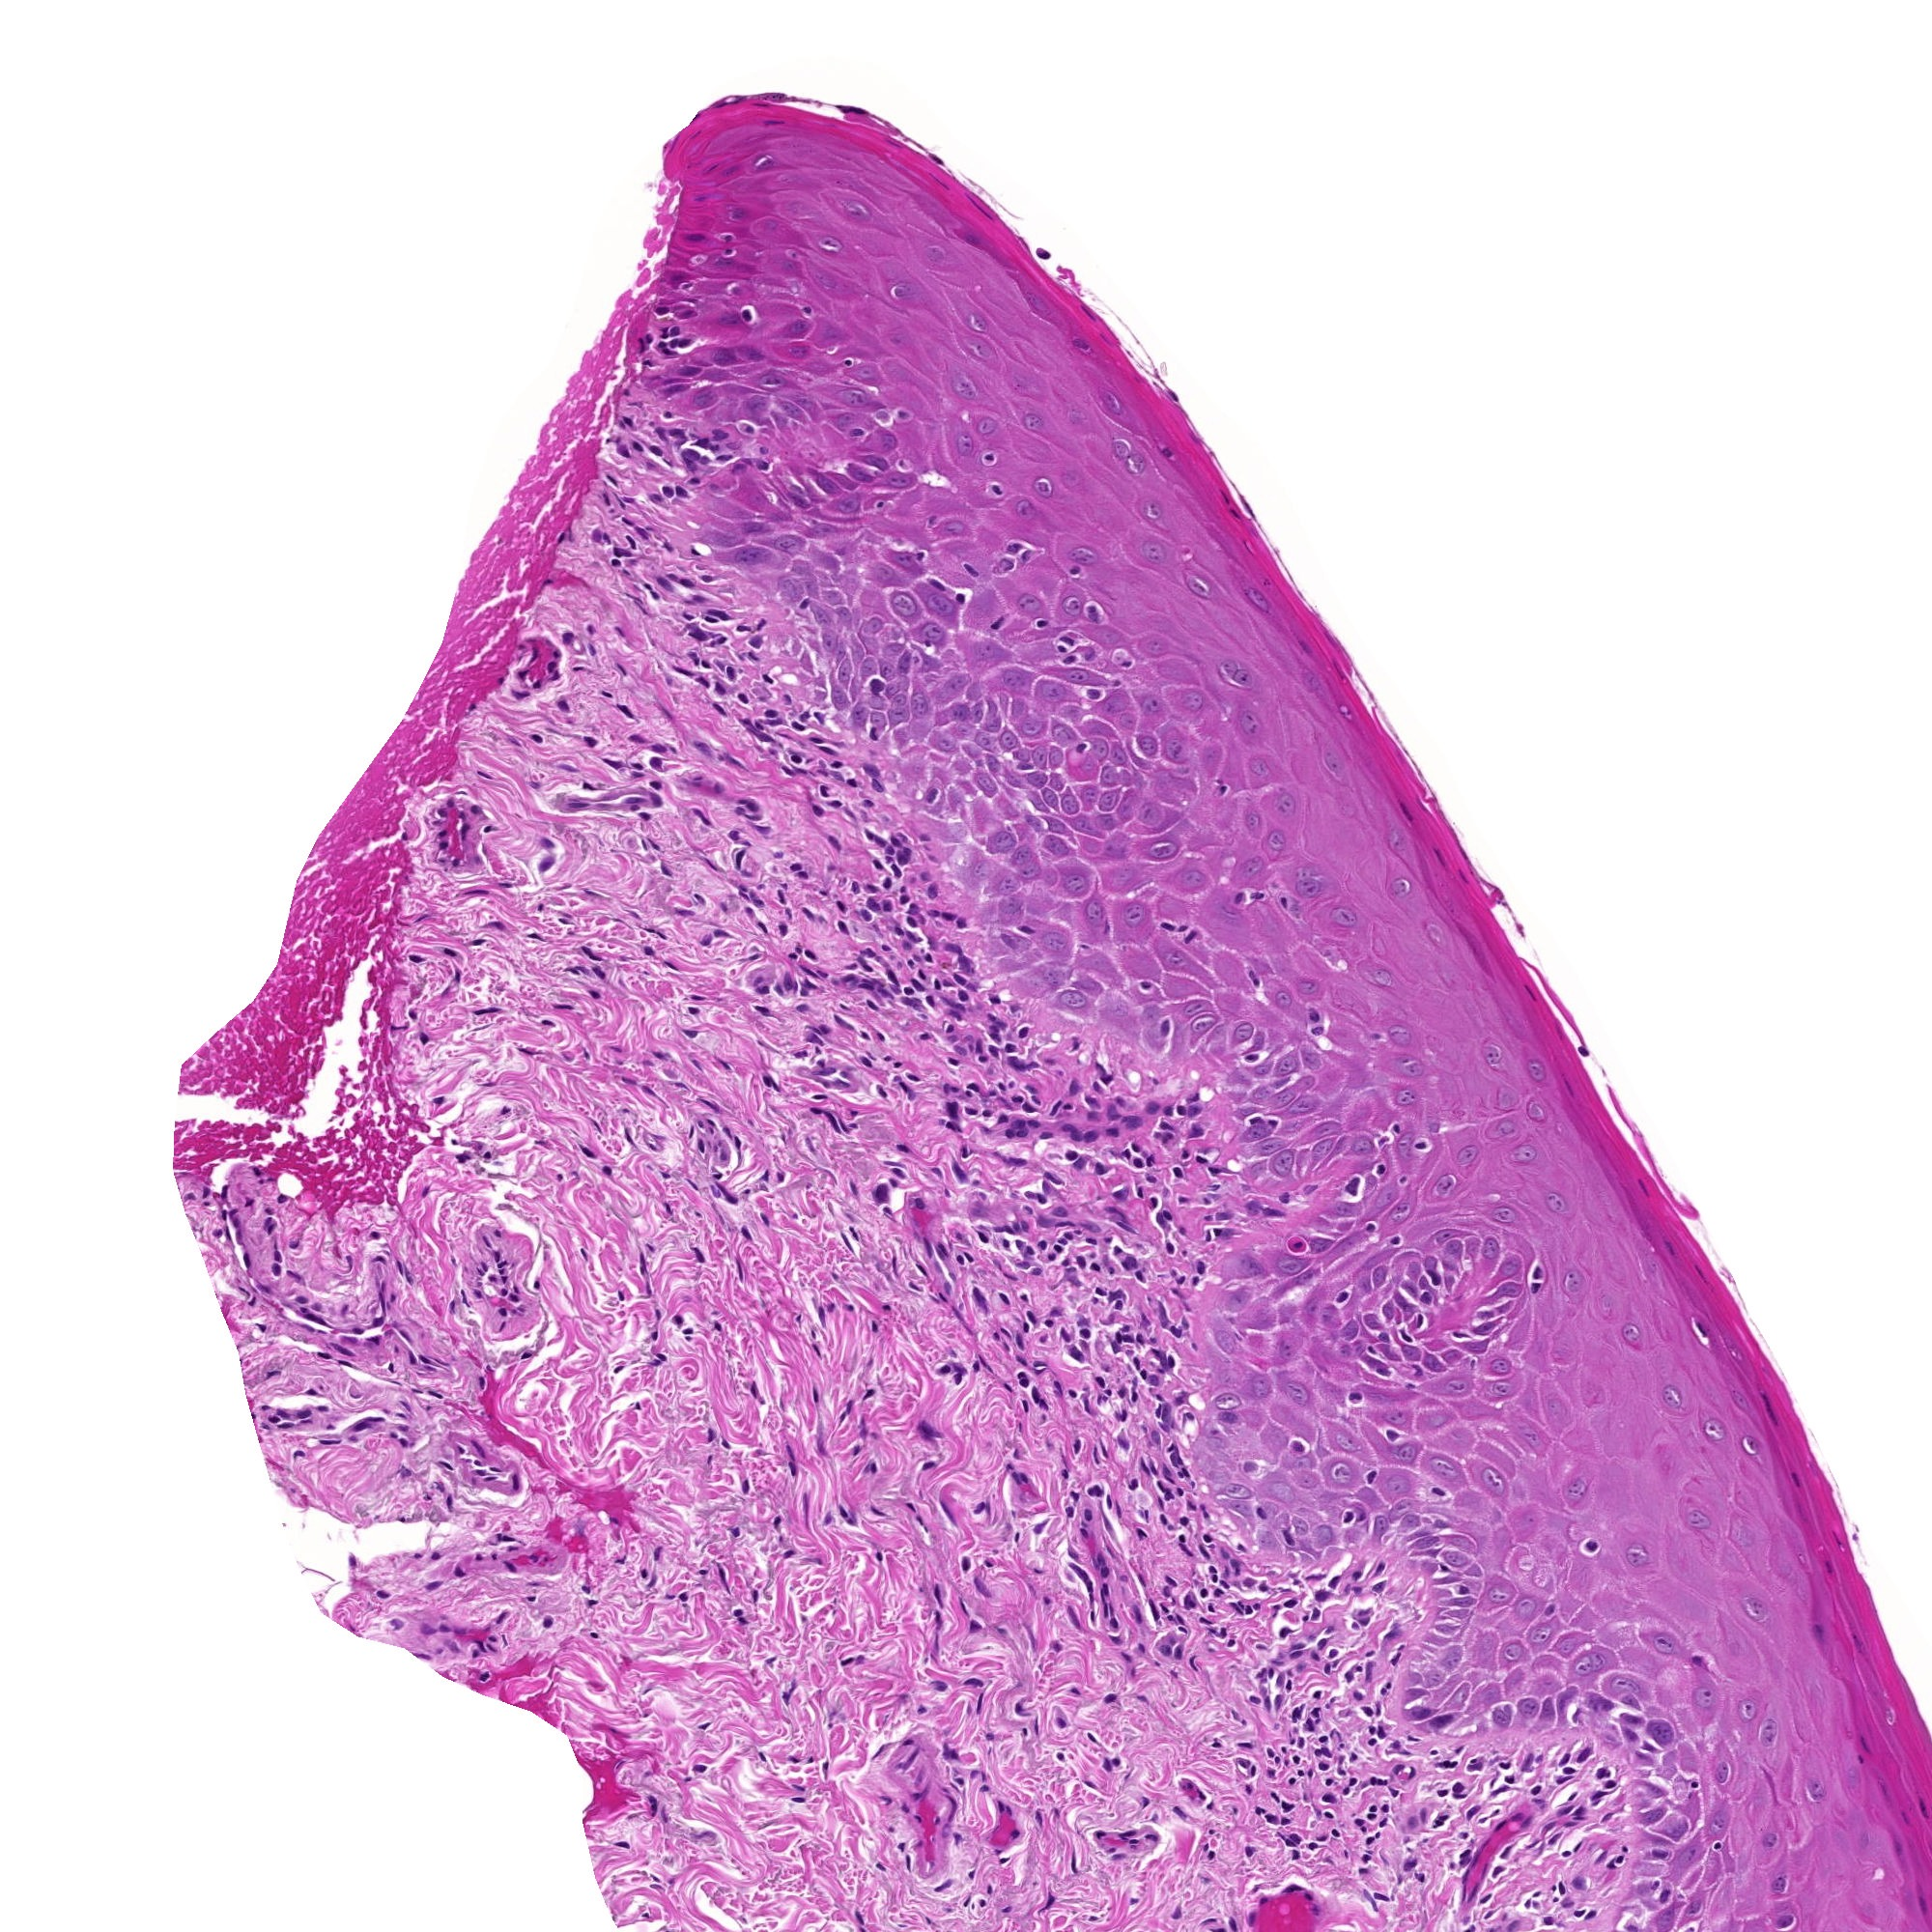epithelial: (407, 901, 439, 932), (738, 338, 770, 370), (646, 292, 678, 324), (688, 426, 720, 458), (860, 446, 892, 478), (671, 297, 702, 329), (683, 442, 715, 474), (784, 334, 816, 366), (872, 425, 904, 456), (826, 403, 858, 435), (773, 249, 805, 281), (648, 320, 679, 352), (805, 464, 837, 495), (720, 338, 752, 370), (667, 428, 699, 460), (667, 364, 699, 396), (883, 322, 915, 354), (617, 786, 649, 817), (823, 681, 855, 713), (740, 540, 771, 571), (906, 688, 938, 720), (814, 545, 846, 577), (941, 582, 973, 614), (865, 487, 897, 518), (899, 550, 931, 582), (892, 591, 924, 623), (564, 1516, 596, 1548), (959, 225, 991, 257), (964, 306, 996, 338), (1005, 839, 1037, 870), (1207, 771, 1238, 803), (1083, 713, 1115, 745), (991, 548, 1023, 580), (1293, 1042, 1325, 1074), (1148, 1012, 1180, 1044), (1392, 1330, 1424, 1362), (1378, 1322, 1410, 1353), (1359, 1346, 1391, 1378), (1394, 1504, 1426, 1536), (1451, 920, 1483, 952), (1686, 1311, 1718, 1343), (1495, 1251, 1527, 1283), (1626, 1203, 1658, 1235), (1654, 1380, 1686, 1412), (1762, 1867, 1794, 1898), (1882, 1831, 1914, 1863), (1647, 1624, 1679, 1656), (1752, 1718, 1783, 1750), (1870, 1773, 1902, 1805), (1534, 1592, 1566, 1624), (878, 653, 911, 683), (1511, 1691, 1545, 1721), (428, 826, 458, 858), (439, 816, 471, 846), (456, 690, 488, 720), (458, 844, 490, 874), (709, 341, 740, 373), (679, 223, 711, 253), (674, 356, 706, 386), (731, 299, 761, 331), (702, 419, 734, 449), (688, 382, 718, 414), (752, 149, 782, 180), (709, 246, 740, 278), (759, 363, 789, 395), (847, 460, 878, 492), (717, 154, 747, 186), (701, 359, 731, 391), (699, 430, 731, 460), (777, 393, 807, 425), (840, 456, 870, 488), (844, 384, 876, 414), (770, 398, 801, 428), (860, 671, 890, 702), (890, 646, 920, 678), (842, 699, 874, 729), (729, 541, 761, 571), (890, 543, 922, 573), (916, 778, 947, 810), (916, 623, 947, 655), (901, 541, 932, 571), (913, 646, 943, 678), (941, 697, 973, 727), (869, 561, 901, 591), (883, 699, 915, 729), (773, 529, 805, 559), (805, 602, 837, 632), (936, 513, 968, 543), (911, 616, 943, 646), (869, 655, 901, 685), (931, 594, 962, 625), (922, 582, 952, 614), (807, 1054, 839, 1085), (973, 441, 1005, 471), (1093, 387, 1125, 418), (1122, 446, 1154, 476), (1077, 598, 1108, 630), (1136, 690, 1168, 720), (1226, 660, 1256, 692), (985, 823, 1017, 853), (1026, 607, 1056, 639), (993, 925, 1024, 955), (1000, 663, 1030, 695), (1148, 835, 1178, 867), (1062, 860, 1092, 892), (1099, 835, 1131, 865), (1053, 625, 1083, 656), (1269, 787, 1300, 817), (1132, 796, 1162, 828), (1010, 586, 1042, 616), (1010, 915, 1042, 945), (1118, 897, 1148, 929), (1104, 740, 1134, 771), (1237, 803, 1267, 835), (978, 701, 1008, 732), (1008, 748, 1039, 780), (1261, 823, 1292, 855), (1069, 543, 1100, 573), (1175, 860, 1205, 892), (1194, 741, 1226, 771), (1237, 579, 1267, 610), (1235, 851, 1267, 881), (1233, 706, 1263, 738), (978, 637, 1010, 667), (1053, 789, 1085, 819), (1074, 778, 1104, 810), (1031, 784, 1063, 814), (1306, 1230, 1336, 1261), (1336, 1315, 1366, 1346), (1269, 1332, 1299, 1364), (1240, 1108, 1272, 1138), (1369, 1322, 1399, 1353), (962, 1194, 993, 1226), (1392, 1083, 1424, 1113), (1364, 1258, 1394, 1290), (1290, 1256, 1320, 1288), (1293, 971, 1325, 1001), (1371, 1295, 1403, 1325), (1371, 1334, 1403, 1364), (1247, 1306, 1277, 1338), (1267, 1145, 1299, 1175), (1415, 1253, 1447, 1283), (1329, 1194, 1361, 1224), (1408, 1697, 1438, 1729), (1348, 1601, 1378, 1633), (1364, 1509, 1394, 1541), (1281, 1635, 1311, 1667), (1346, 1499, 1376, 1530), (1458, 929, 1488, 961), (1467, 1313, 1499, 1343), (1755, 1396, 1787, 1426), (1476, 1040, 1506, 1072), (1453, 1138, 1483, 1169), (1750, 1385, 1782, 1415), (1514, 977, 1546, 1007), (1486, 1198, 1516, 1230), (1520, 1054, 1550, 1086), (1486, 1376, 1518, 1407), (1552, 1070, 1582, 1102), (1631, 1212, 1661, 1244), (1442, 1371, 1474, 1401), (1557, 1263, 1589, 1293), (1437, 1339, 1468, 1369), (1488, 1284, 1518, 1316), (1638, 1799, 1668, 1831), (1585, 1686, 1615, 1718), (1753, 1824, 1783, 1856), (1847, 1729, 1879, 1759), (1707, 1757, 1737, 1789), (1799, 1775, 1831, 1805), (1530, 1695, 1562, 1725), (1447, 1576, 1477, 1608), (1677, 1893, 1709, 1923), (1813, 1550, 1844, 1582), (1644, 1838, 1674, 1870), (1842, 1626, 1874, 1656), (1739, 1589, 1771, 1619), (1582, 1645, 1614, 1675), (1640, 1775, 1672, 1805), (1769, 1900, 1799, 1932), (1652, 1898, 1684, 1928), (449, 814, 479, 844), (464, 1456, 494, 1486), (784, 311, 814, 341), (658, 373, 688, 403), (709, 304, 740, 334), (740, 391, 770, 421), (653, 311, 683, 341), (660, 320, 690, 350), (757, 108, 787, 138), (816, 318, 846, 349), (840, 198, 870, 228), (888, 276, 918, 306), (727, 449, 757, 479), (720, 303, 750, 333), (711, 228, 741, 258), (920, 241, 950, 271), (782, 485, 812, 515), (738, 513, 768, 543), (920, 571, 950, 602), (833, 490, 863, 520), (939, 669, 970, 699), (520, 637, 550, 667), (709, 524, 740, 554), (763, 501, 793, 531), (681, 766, 711, 796), (828, 598, 858, 628), (807, 515, 837, 545), (816, 628, 846, 658), (929, 729, 959, 759), (867, 973, 897, 1003), (904, 1780, 934, 1810), (1065, 329, 1095, 359), (1152, 437, 1182, 467), (1019, 405, 1049, 435), (1017, 283, 1047, 313), (1392, 794, 1422, 824), (1290, 632, 1320, 662), (1131, 729, 1161, 759), (1161, 736, 1191, 766), (1010, 495, 1040, 525), (1040, 830, 1070, 860), (1295, 870, 1325, 901), (998, 892, 1028, 922), (1092, 805, 1122, 835), (1023, 764, 1053, 794), (1039, 678, 1069, 708), (1074, 639, 1104, 669), (1097, 688, 1127, 718), (1139, 494, 1169, 524), (961, 697, 991, 727), (1060, 591, 1090, 621), (1384, 874, 1414, 904), (1214, 1401, 1244, 1431), (1417, 1348, 1447, 1378), (1237, 1251, 1267, 1281), (1389, 1288, 1419, 1318), (1251, 1108, 1281, 1138), (1295, 1292, 1325, 1322), (1180, 993, 1210, 1023), (1357, 1307, 1387, 1338), (1191, 1010, 1221, 1040), (1272, 1053, 1302, 1083), (1267, 984, 1297, 1014), (1226, 1017, 1256, 1047), (1412, 1525, 1442, 1555), (1311, 1520, 1341, 1550), (1484, 879, 1514, 909), (1654, 1231, 1684, 1261), (1476, 1231, 1506, 1261), (1438, 1233, 1468, 1263), (1486, 1350, 1516, 1380), (1614, 1316, 1644, 1346), (1803, 1615, 1833, 1645), (1486, 1702, 1516, 1732), (1663, 1815, 1693, 1845), (1645, 1718, 1675, 1748), (1780, 1463, 1810, 1493), (1675, 1836, 1706, 1867), (1548, 1684, 1578, 1714), (1704, 1805, 1734, 1835), (1560, 1474, 1591, 1504), (1683, 1506, 1713, 1536), (1621, 1543, 1651, 1573), (789, 386, 817, 418), (897, 653, 929, 681), (1037, 810, 1069, 839), (1461, 1330, 1490, 1362), (662, 264, 692, 292), (630, 327, 660, 356), (725, 198, 754, 228), (674, 441, 702, 471), (978, 748, 1007, 778), (1223, 1283, 1253, 1311), (1493, 1274, 1522, 1304)
fibroblast and endothelial: (375, 1350, 407, 1384), (637, 784, 671, 816), (904, 860, 936, 893), (830, 962, 863, 994), (881, 970, 915, 1001), (1016, 1106, 1047, 1139), (1207, 1200, 1240, 1231), (1028, 1175, 1062, 1207), (1343, 1806, 1376, 1838), (1380, 1741, 1412, 1775), (433, 936, 465, 968), (460, 876, 492, 908), (426, 794, 458, 826), (295, 1299, 327, 1330), (359, 1322, 391, 1353), (308, 1339, 340, 1371), (405, 1343, 437, 1375), (203, 1215, 235, 1247), (442, 961, 474, 993), (423, 1085, 455, 1116), (303, 1304, 334, 1336), (246, 1311, 278, 1343), (359, 1230, 391, 1261), (350, 1318, 382, 1350), (219, 1221, 251, 1253), (389, 1318, 421, 1350), (416, 1346, 448, 1378), (389, 1456, 421, 1488), (380, 1608, 412, 1640), (828, 92, 860, 124), (653, 398, 685, 430), (600, 426, 632, 458), (706, 600, 738, 632), (573, 938, 605, 970), (780, 741, 812, 773), (573, 725, 605, 757), (932, 901, 964, 932), (867, 823, 899, 855), (870, 867, 902, 899), (534, 651, 566, 683), (702, 692, 734, 724), (639, 768, 671, 800), (862, 870, 893, 902), (736, 709, 768, 741), (552, 621, 584, 653), (623, 520, 655, 552), (678, 642, 709, 674), (782, 938, 814, 970), (738, 633, 770, 665), (706, 623, 738, 655), (916, 876, 948, 908), (888, 883, 920, 915), (881, 911, 913, 943), (842, 872, 874, 904), (876, 837, 908, 869), (727, 681, 759, 713), (740, 625, 771, 656), (653, 531, 685, 563), (690, 925, 722, 957), (531, 826, 563, 858), (540, 658, 571, 690), (575, 619, 607, 651), (920, 897, 952, 929), (890, 860, 922, 892), (690, 612, 722, 644), (711, 676, 743, 708), (706, 915, 738, 947), (603, 616, 635, 648), (759, 704, 791, 736), (547, 628, 579, 660), (690, 626, 722, 658), (732, 895, 764, 927), (936, 1093, 968, 1125), (764, 970, 796, 1001), (865, 1180, 897, 1212), (784, 970, 816, 1001), (901, 968, 932, 1000), (895, 985, 927, 1017), (579, 978, 610, 1010), (823, 1109, 855, 1141), (738, 1373, 770, 1405), (941, 1154, 973, 1185), (487, 1295, 518, 1327), (941, 1359, 973, 1391), (678, 993, 709, 1024), (786, 991, 817, 1023), (497, 1279, 529, 1311), (701, 1159, 732, 1191), (835, 1221, 867, 1253), (812, 1293, 844, 1325), (909, 1021, 941, 1053), (807, 1014, 839, 1046), (800, 1380, 832, 1412), (775, 966, 807, 998), (817, 1067, 849, 1099), (487, 1256, 518, 1288), (644, 1039, 676, 1070), (612, 1120, 644, 1152), (939, 996, 971, 1028), (694, 1108, 725, 1139), (870, 1194, 902, 1226), (941, 964, 973, 996), (708, 1139, 740, 1171), (490, 1286, 522, 1318), (759, 975, 791, 1007), (800, 1021, 832, 1053), (568, 1237, 600, 1269), (632, 1074, 663, 1106), (497, 1293, 529, 1325), (807, 1069, 839, 1100), (678, 1122, 709, 1154), (849, 1415, 881, 1447), (701, 1169, 732, 1201), (830, 1499, 862, 1530), (706, 1559, 738, 1591), (936, 1737, 968, 1769), (531, 1606, 563, 1638), (761, 1506, 793, 1537), (863, 1539, 895, 1571), (485, 1601, 517, 1633), (860, 1495, 892, 1527), (810, 1750, 842, 1782), (897, 1493, 929, 1525), (642, 1794, 674, 1826), (904, 1504, 936, 1536), (916, 1575, 948, 1606), (1157, 380, 1189, 412), (1223, 881, 1254, 913), (1074, 1120, 1106, 1152), (1148, 1201, 1180, 1233), (1010, 1090, 1042, 1122), (991, 1031, 1023, 1063), (1012, 1307, 1044, 1339), (978, 984, 1010, 1016), (1118, 1323, 1150, 1355), (1100, 1327, 1132, 1359), (1138, 1185, 1169, 1217), (1129, 1359, 1161, 1391), (1047, 1224, 1079, 1256), (1118, 1380, 1150, 1412), (1085, 1368, 1116, 1399), (993, 1214, 1024, 1246), (1007, 1016, 1039, 1047), (1069, 1316, 1100, 1348), (1024, 1182, 1056, 1214), (1339, 1380, 1371, 1412), (1419, 1261, 1451, 1293), (1076, 1083, 1108, 1115), (1116, 1106, 1148, 1138), (996, 1039, 1028, 1070), (1168, 1263, 1200, 1295), (1138, 1362, 1169, 1394), (961, 1350, 993, 1382), (1120, 1346, 1152, 1378), (1169, 1138, 1201, 1169), (1003, 1212, 1035, 1244), (1085, 1067, 1116, 1099), (1109, 1138, 1141, 1169), (1086, 1116, 1118, 1148), (985, 1072, 1017, 1104), (977, 1284, 1008, 1316), (1035, 1162, 1067, 1194), (1099, 1093, 1131, 1125), (1042, 1371, 1074, 1403), (1146, 1297, 1178, 1329), (993, 1077, 1024, 1109), (1072, 1391, 1104, 1422), (1016, 1371, 1047, 1403), (1093, 1276, 1125, 1307), (993, 1016, 1024, 1047), (1099, 1196, 1131, 1228), (1028, 1205, 1060, 1237), (1269, 1182, 1300, 1214), (1238, 1192, 1270, 1224), (989, 1316, 1021, 1348), (1145, 1419, 1177, 1451), (970, 1086, 1001, 1118), (1129, 1320, 1161, 1352), (973, 1044, 1005, 1076), (1093, 1240, 1125, 1272), (1194, 1221, 1226, 1253), (1000, 1134, 1031, 1166), (1083, 1099, 1115, 1131), (1056, 1240, 1088, 1272), (1007, 1203, 1039, 1235), (1171, 1184, 1203, 1215), (1116, 1468, 1148, 1500), (1162, 1445, 1194, 1477), (1279, 1838, 1311, 1870), (1065, 1557, 1097, 1589), (1332, 1769, 1364, 1801), (1072, 1499, 1104, 1530), (1093, 1748, 1125, 1780), (1138, 1821, 1169, 1852), (1362, 1571, 1394, 1603), (1046, 1706, 1077, 1737), (1299, 1598, 1330, 1629), (1152, 1598, 1184, 1629), (1194, 1838, 1226, 1870), (1382, 1729, 1414, 1760), (1269, 1667, 1300, 1698), (1286, 1826, 1318, 1858), (1003, 1691, 1035, 1723), (1396, 1849, 1428, 1881), (1295, 1886, 1327, 1918), (1154, 1566, 1185, 1598), (1348, 1851, 1380, 1882), (1231, 1771, 1263, 1803), (1364, 1881, 1396, 1913), (1265, 1591, 1297, 1622), (1146, 1591, 1178, 1622), (1341, 1679, 1373, 1711), (1376, 1619, 1408, 1651), (1077, 1571, 1109, 1603), (1077, 1557, 1109, 1589), (1023, 1801, 1054, 1833), (1131, 1601, 1162, 1633), (1247, 1884, 1279, 1916), (1058, 1603, 1090, 1635), (1293, 1605, 1325, 1637), (1076, 1721, 1108, 1753), (1198, 1589, 1230, 1621), (1421, 1476, 1453, 1507), (1226, 1569, 1258, 1601), (1056, 1537, 1088, 1569), (1357, 1783, 1389, 1815), (1371, 1771, 1403, 1803), (1399, 1677, 1431, 1709), (1325, 1778, 1357, 1810), (1284, 1651, 1316, 1683), (1442, 1318, 1474, 1350), (1442, 1773, 1474, 1805), (1576, 1530, 1608, 1562), (1582, 1766, 1614, 1798), (1605, 1840, 1637, 1872), (1681, 1644, 1713, 1675), (1495, 1803, 1527, 1835), (1514, 1744, 1546, 1776), (1461, 1875, 1493, 1907), (1447, 1819, 1479, 1851), (221, 1207, 251, 1240), (678, 430, 711, 460), (614, 511, 644, 545), (771, 683, 805, 713), (529, 662, 563, 692), (1008, 1102, 1039, 1136), (991, 1047, 1024, 1077), (400, 943, 432, 973), (456, 794, 488, 824), (462, 925, 492, 957), (446, 800, 478, 830), (439, 847, 471, 878), (428, 809, 458, 840), (433, 789, 465, 819), (449, 846, 481, 876), (435, 800, 467, 830), (345, 1410, 377, 1440), (448, 1141, 478, 1173), (409, 1023, 441, 1053), (288, 1399, 320, 1430), (255, 1210, 285, 1242), (361, 1306, 393, 1336), (269, 1410, 301, 1440), (212, 1200, 244, 1230), (389, 1256, 421, 1286), (359, 1219, 389, 1251), (287, 1284, 317, 1316), (242, 1157, 274, 1187), (297, 1376, 327, 1408), (257, 1357, 287, 1389), (329, 1348, 361, 1378), (352, 1405, 384, 1435), (396, 1000, 428, 1030), (182, 1178, 212, 1210), (249, 1274, 281, 1304), (395, 1343, 426, 1373), (253, 1196, 285, 1226), (464, 994, 494, 1026), (288, 1295, 320, 1325), (242, 1277, 274, 1307), (295, 1396, 327, 1426), (306, 1392, 338, 1422), (271, 1398, 303, 1428), (255, 1403, 285, 1435), (235, 1284, 267, 1315), (410, 1175, 441, 1207), (366, 1276, 396, 1307), (352, 1309, 384, 1339), (442, 1286, 474, 1316), (380, 1012, 412, 1042), (295, 1290, 327, 1320), (372, 1309, 403, 1339), (433, 1486, 465, 1516), (418, 1541, 449, 1571), (444, 1555, 474, 1587), (366, 1578, 396, 1610), (421, 1614, 453, 1644), (437, 1615, 469, 1645), (462, 1633, 494, 1663), (439, 1631, 469, 1663), (405, 1541, 437, 1571), (462, 1541, 492, 1573), (607, 437, 639, 467), (663, 419, 695, 449), (610, 405, 640, 437), (920, 143, 952, 173), (722, 85, 752, 117), (637, 444, 669, 474), (706, 87, 736, 119), (656, 416, 688, 446), (665, 568, 697, 598), (681, 619, 713, 649), (870, 890, 901, 922), (885, 828, 915, 860), (630, 800, 660, 832), (801, 794, 833, 824), (688, 648, 718, 679), (686, 665, 718, 695), (531, 847, 561, 879), (863, 847, 893, 879), (695, 602, 727, 632), (835, 768, 867, 798), (642, 575, 674, 605), (784, 709, 814, 741), (748, 722, 780, 752), (734, 789, 764, 821), (860, 888, 890, 920), (784, 856, 816, 886), (826, 911, 858, 941), (895, 888, 927, 918), (741, 885, 771, 916), (704, 672, 736, 702), (563, 789, 593, 821), (743, 715, 773, 747), (897, 902, 929, 932), (621, 722, 651, 754), (800, 725, 832, 755), (824, 890, 856, 920), (768, 913, 800, 943), (745, 610, 775, 642), (540, 639, 571, 669), (633, 936, 663, 968), (518, 920, 550, 950), (727, 612, 757, 644), (787, 701, 817, 732), (699, 920, 729, 952), (748, 911, 778, 943), (639, 915, 669, 947), (821, 748, 853, 778), (853, 938, 885, 968), (586, 522, 617, 552), (754, 697, 786, 727), (649, 855, 679, 886), (856, 754, 886, 786), (591, 481, 621, 513), (481, 909, 513, 939), (916, 927, 947, 959), (817, 826, 849, 856), (686, 731, 717, 763), (679, 538, 711, 568), (899, 915, 929, 947), (890, 916, 920, 948), (559, 653, 591, 683), (858, 718, 888, 750), (547, 522, 579, 552), (911, 941, 943, 971), (642, 481, 672, 513), (591, 678, 621, 709), (671, 602, 702, 632), (727, 876, 759, 906), (488, 869, 520, 899), (635, 830, 667, 860), (855, 878, 886, 908), (678, 632, 709, 662), (747, 812, 777, 844), (605, 655, 637, 685), (692, 561, 722, 593), (702, 773, 732, 805), (681, 607, 713, 637), (943, 906, 973, 938), (807, 729, 837, 761), (731, 704, 761, 736), (610, 504, 642, 534), (630, 778, 662, 809), (725, 794, 755, 826), (869, 936, 899, 968), (633, 571, 663, 603), (699, 653, 731, 683), (683, 881, 713, 913), (628, 515, 660, 545), (614, 543, 646, 573), (835, 893, 867, 924), (911, 869, 941, 901), (883, 870, 915, 901), (906, 823, 938, 853), (904, 893, 936, 924), (651, 697, 681, 729), (623, 738, 653, 770), (527, 632, 559, 662), (699, 663, 731, 694), (510, 656, 540, 688), (754, 1065, 784, 1097), (816, 1102, 847, 1132), (801, 1095, 832, 1127), (936, 1353, 966, 1385), (938, 1109, 968, 1141), (911, 985, 943, 1016), (747, 994, 778, 1024), (876, 961, 908, 991), (911, 1414, 941, 1445), (663, 1304, 694, 1336), (881, 1155, 913, 1185), (747, 975, 778, 1005), (803, 1081, 835, 1111), (591, 1155, 623, 1185), (856, 989, 886, 1021), (895, 1063, 925, 1095), (672, 1316, 702, 1348), (934, 1074, 966, 1104), (851, 1046, 881, 1077), (531, 1007, 563, 1037), (548, 991, 579, 1023), (520, 1269, 552, 1299), (695, 1090, 727, 1120), (915, 1231, 945, 1263), (860, 1309, 890, 1341), (701, 1311, 732, 1341), (764, 1161, 794, 1192), (490, 1095, 520, 1127), (906, 1254, 938, 1284), (511, 1035, 541, 1067), (628, 1247, 658, 1279), (867, 1076, 897, 1108), (823, 1293, 855, 1323), (879, 1047, 911, 1077), (695, 1419, 725, 1451), (793, 964, 824, 994), (824, 1005, 856, 1035), (870, 1293, 902, 1323), (605, 1279, 635, 1311), (904, 1187, 934, 1219), (653, 1192, 683, 1224), (784, 1039, 816, 1069), (711, 1115, 741, 1146), (865, 1021, 895, 1053), (931, 1240, 962, 1270), (709, 1049, 741, 1079), (869, 1171, 899, 1203), (835, 1108, 867, 1138), (929, 978, 961, 1008), (878, 1247, 909, 1277), (800, 1329, 830, 1361), (628, 1258, 660, 1288), (724, 1253, 754, 1284), (649, 1159, 679, 1191), (878, 1168, 909, 1198), (908, 973, 939, 1003), (642, 1299, 674, 1329), (481, 1261, 511, 1293), (941, 1242, 973, 1272), (828, 1063, 858, 1095), (916, 964, 948, 994), (621, 1391, 653, 1421), (479, 1235, 510, 1267), (708, 1127, 738, 1159), (922, 1583, 952, 1615), (685, 1752, 715, 1783), (725, 1599, 755, 1631), (832, 1645, 863, 1675), (637, 1789, 669, 1819), (913, 1449, 943, 1481), (499, 1467, 531, 1497), (607, 1829, 639, 1859), (630, 1559, 660, 1591), (488, 1522, 520, 1552), (771, 1679, 803, 1709), (856, 1451, 886, 1483), (922, 1603, 954, 1633), (789, 1744, 821, 1775), (740, 1580, 771, 1610), (778, 1744, 810, 1775), (575, 1587, 607, 1617), (925, 1668, 955, 1700), (731, 1468, 761, 1500), (688, 1711, 720, 1741), (579, 1619, 610, 1649), (642, 1537, 672, 1569), (747, 1741, 778, 1771), (720, 1516, 750, 1548), (686, 1557, 718, 1587), (515, 1583, 547, 1614), (605, 1545, 635, 1576), (938, 1789, 970, 1819), (870, 1783, 901, 1815), (814, 1502, 844, 1534), (865, 1734, 895, 1766), (520, 1541, 550, 1573), (600, 1504, 630, 1536), (842, 1644, 874, 1674), (754, 1645, 786, 1675), (1175, 920, 1205, 952), (1152, 911, 1184, 941), (980, 609, 1012, 639), (1219, 497, 1251, 527), (1231, 492, 1263, 522), (1242, 881, 1274, 911), (1007, 538, 1037, 570), (1000, 533, 1031, 563), (1162, 915, 1194, 945), (1000, 545, 1031, 575), (1058, 1141, 1090, 1171), (1007, 1364, 1039, 1394), (1164, 1095, 1196, 1125), (1138, 1093, 1169, 1123), (994, 1116, 1024, 1148), (1203, 1217, 1235, 1247), (1000, 1146, 1031, 1177), (1040, 1235, 1070, 1267), (1150, 1093, 1180, 1125), (968, 1221, 998, 1253), (1100, 1283, 1132, 1313), (1097, 1116, 1129, 1146), (1115, 1247, 1146, 1277), (962, 1279, 993, 1311), (1150, 1348, 1182, 1378), (1001, 1049, 1033, 1079), (991, 1106, 1021, 1138), (1005, 1115, 1035, 1146), (1058, 1118, 1090, 1148), (973, 1097, 1003, 1129), (1180, 1116, 1212, 1146), (1108, 1399, 1138, 1431), (1152, 1233, 1184, 1263), (1108, 1203, 1138, 1235), (1008, 1391, 1040, 1421), (1086, 1154, 1116, 1185), (1108, 1378, 1139, 1408), (1003, 1325, 1035, 1355), (1192, 1148, 1223, 1180), (1148, 1398, 1178, 1430), (1150, 1111, 1182, 1141), (1104, 1180, 1136, 1210), (980, 1008, 1010, 1040), (1108, 1322, 1138, 1353), (1063, 1148, 1095, 1178), (1178, 1095, 1210, 1125), (968, 1039, 998, 1070), (1180, 1141, 1210, 1173), (1185, 1253, 1215, 1284), (982, 1021, 1012, 1053), (1031, 1118, 1062, 1150), (1016, 1299, 1046, 1330), (1007, 1318, 1039, 1348), (1281, 1230, 1311, 1261), (962, 1031, 993, 1063), (1168, 1401, 1200, 1431), (1336, 1171, 1368, 1201), (1403, 1306, 1435, 1336), (1058, 1072, 1088, 1104), (1076, 1093, 1108, 1123), (1164, 1384, 1196, 1414), (987, 1097, 1017, 1129), (1044, 1196, 1076, 1226), (1102, 1249, 1132, 1281), (1021, 1254, 1051, 1286), (1366, 1353, 1398, 1384), (1150, 1122, 1180, 1154), (1060, 1028, 1090, 1060), (1077, 1108, 1108, 1139), (998, 1284, 1028, 1316), (1093, 1254, 1125, 1284), (1159, 1185, 1191, 1215), (1070, 1127, 1100, 1159), (977, 1077, 1007, 1109), (1019, 1093, 1051, 1123), (1143, 1384, 1175, 1414), (1090, 1380, 1122, 1410), (998, 993, 1028, 1024), (1054, 1254, 1085, 1286), (1154, 1415, 1185, 1445), (1403, 1277, 1435, 1307), (1001, 1023, 1031, 1054), (1240, 962, 1270, 994), (1410, 1270, 1442, 1300), (1062, 1224, 1093, 1254), (1131, 1136, 1161, 1168), (1104, 1088, 1136, 1118), (1148, 1191, 1178, 1223), (1410, 1290, 1440, 1322), (964, 1077, 994, 1109), (1074, 1212, 1106, 1242), (1150, 1407, 1182, 1437), (1051, 1217, 1083, 1247), (1168, 1309, 1198, 1341), (985, 1083, 1016, 1115), (973, 1017, 1005, 1047), (1024, 1361, 1054, 1392), (1072, 1562, 1102, 1594), (1138, 1594, 1169, 1624), (1272, 1790, 1302, 1822), (1315, 1782, 1345, 1813), (1353, 1824, 1385, 1854), (1088, 1576, 1120, 1606), (1086, 1819, 1116, 1851), (1233, 1592, 1263, 1624), (1276, 1874, 1307, 1904), (1198, 1559, 1230, 1589), (1254, 1801, 1284, 1833), (1152, 1477, 1184, 1507), (1177, 1583, 1207, 1615), (1353, 1695, 1384, 1727), (961, 1612, 993, 1642), (1307, 1723, 1338, 1755), (1005, 1463, 1037, 1493), (1231, 1729, 1261, 1760), (1263, 1684, 1293, 1716), (1148, 1504, 1178, 1536), (1122, 1601, 1154, 1631), (1152, 1458, 1182, 1490), (1276, 1587, 1306, 1619), (1307, 1736, 1338, 1767), (1341, 1559, 1371, 1591), (1200, 1729, 1231, 1759), (1122, 1821, 1154, 1851), (1290, 1881, 1322, 1911), (1316, 1564, 1348, 1594), (1033, 1886, 1065, 1916), (1164, 1476, 1196, 1506), (1293, 1711, 1325, 1741), (1125, 1518, 1157, 1548), (1385, 1755, 1417, 1785), (1189, 1785, 1221, 1815), (1332, 1661, 1364, 1691), (1299, 1640, 1329, 1672), (1162, 1796, 1194, 1826), (1093, 1592, 1123, 1624), (1143, 1633, 1175, 1663), (1233, 1836, 1265, 1867), (1410, 1805, 1442, 1835), (1398, 1757, 1428, 1789), (1283, 1727, 1315, 1757), (1060, 1479, 1090, 1511), (1118, 1826, 1148, 1858), (1405, 1861, 1435, 1893), (1145, 1470, 1177, 1500), (1311, 1652, 1343, 1683), (1272, 1522, 1304, 1552), (1212, 1624, 1244, 1654), (1058, 1849, 1088, 1881), (1338, 1741, 1368, 1773), (1060, 1675, 1090, 1707), (1077, 1484, 1108, 1516), (1422, 1805, 1453, 1836), (973, 1546, 1003, 1578), (964, 1569, 994, 1601), (1069, 1514, 1099, 1546), (1253, 1656, 1283, 1688), (1247, 1686, 1279, 1716), (1046, 1739, 1076, 1771), (1016, 1714, 1047, 1744), (1192, 1516, 1223, 1548), (1421, 1707, 1453, 1737), (1341, 1575, 1373, 1605), (1178, 1645, 1208, 1677), (1237, 1902, 1269, 1932), (1164, 1582, 1196, 1612), (1076, 1601, 1108, 1631), (985, 1844, 1017, 1874), (970, 1882, 1000, 1914), (1272, 1736, 1304, 1766), (1001, 1453, 1031, 1484), (1146, 1484, 1178, 1514), (1353, 1810, 1384, 1842), (1100, 1840, 1132, 1870), (1040, 1631, 1072, 1661), (1146, 1451, 1178, 1481), (1108, 1603, 1139, 1633), (1129, 1470, 1161, 1500), (1210, 1541, 1242, 1571), (1092, 1507, 1122, 1539), (1161, 1898, 1192, 1928), (973, 1720, 1005, 1750), (1233, 1582, 1263, 1614), (1396, 1806, 1428, 1836), (1214, 1589, 1246, 1619), (968, 1771, 1000, 1801), (1127, 1562, 1157, 1594), (1189, 1495, 1219, 1527), (1212, 1571, 1242, 1603), (1304, 1645, 1334, 1677), (1315, 1741, 1345, 1773), (1246, 1594, 1277, 1624), (985, 1614, 1016, 1645), (1316, 1720, 1348, 1750), (1568, 1035, 1599, 1065), (1520, 1256, 1552, 1286), (1458, 1316, 1490, 1346), (1587, 1757, 1619, 1787), (1599, 1845, 1629, 1877), (1454, 1750, 1486, 1780), (1594, 1769, 1626, 1799), (1451, 1842, 1483, 1872), (1488, 1750, 1520, 1780), (1449, 1829, 1479, 1861), (1562, 1799, 1594, 1829), (1484, 1810, 1516, 1840), (1506, 1805, 1537, 1835), (1506, 1750, 1537, 1780), (1550, 1794, 1580, 1826), (1467, 1882, 1499, 1913), (1490, 1836, 1522, 1867), (1559, 1870, 1589, 1902), (1647, 1879, 1679, 1909), (1536, 1821, 1568, 1851), (1587, 1842, 1619, 1872), (1677, 1769, 1709, 1799), (1550, 1888, 1582, 1918), (1615, 1720, 1647, 1750), (1534, 1810, 1564, 1842), (1628, 1739, 1658, 1771), (1514, 1886, 1546, 1916), (945, 978, 973, 1012), (389, 821, 419, 851), (232, 1244, 262, 1274), (264, 1401, 294, 1431), (209, 1175, 239, 1205), (262, 1240, 292, 1270), (260, 1253, 290, 1283), (265, 1184, 295, 1214), (364, 1244, 395, 1274), (280, 1260, 310, 1290), (280, 1230, 310, 1260), (373, 1281, 403, 1311), (387, 1415, 418, 1445), (251, 1394, 281, 1424), (465, 1138, 495, 1168), (437, 968, 467, 998), (366, 1292, 396, 1322), (418, 1569, 448, 1599), (432, 1451, 462, 1481), (425, 1472, 455, 1502), (283, 1438, 313, 1468), (412, 1614, 442, 1644), (387, 1504, 418, 1534), (840, 96, 870, 126), (640, 435, 671, 465), (617, 433, 648, 464), (667, 327, 697, 357), (649, 334, 679, 364), (626, 430, 656, 460), (646, 418, 676, 448), (763, 81, 793, 111), (632, 347, 662, 377), (748, 449, 778, 479), (676, 449, 706, 479), (676, 423, 706, 453), (656, 329, 686, 359), (610, 695, 640, 725), (794, 939, 824, 970), (724, 840, 754, 870), (669, 656, 699, 686), (602, 541, 632, 571), (522, 724, 552, 754), (640, 740, 671, 770), (881, 856, 911, 886), (522, 671, 552, 701), (856, 821, 886, 851), (681, 584, 711, 614), (648, 566, 678, 596), (821, 789, 851, 819), (548, 688, 579, 718), (752, 663, 782, 694), (814, 736, 844, 766), (506, 679, 536, 709), (809, 775, 839, 805), (506, 665, 536, 695), (715, 656, 745, 686), (718, 819, 748, 849), (614, 529, 644, 559), (688, 803, 718, 833), (639, 750, 669, 780), (571, 771, 602, 801), (939, 932, 970, 962), (908, 924, 938, 954), (860, 763, 890, 793), (849, 897, 879, 927), (623, 754, 653, 784), (793, 899, 823, 929), (766, 881, 796, 911), (925, 931, 955, 961), (646, 732, 676, 763), (853, 787, 883, 817), (607, 485, 637, 515), (879, 847, 909, 878), (803, 701, 833, 731), (607, 534, 637, 564), (628, 761, 658, 791), (667, 897, 697, 927), (732, 621, 763, 651), (711, 667, 741, 697), (885, 892, 915, 922), (826, 901, 856, 931), (533, 566, 563, 596), (865, 862, 895, 892), (824, 763, 855, 793), (575, 878, 605, 908), (878, 823, 908, 853), (656, 563, 686, 593), (573, 1138, 603, 1168), (890, 1072, 920, 1102), (644, 1343, 674, 1373), (924, 970, 954, 1000), (717, 1184, 747, 1214), (927, 1233, 957, 1263), (888, 1132, 918, 1162), (855, 975, 885, 1005), (485, 1246, 515, 1276), (855, 1378, 885, 1408), (722, 1127, 752, 1157), (731, 1217, 761, 1247), (511, 1339, 541, 1369), (893, 975, 924, 1005), (639, 1318, 669, 1348), (686, 1131, 717, 1161), (750, 1161, 780, 1191), (833, 1392, 863, 1422), (939, 987, 970, 1017), (750, 1205, 780, 1235), (603, 1353, 633, 1384), (490, 1274, 520, 1304), (839, 1173, 869, 1203), (936, 1014, 966, 1044), (586, 959, 616, 989), (681, 982, 711, 1012), (847, 968, 878, 998), (839, 1099, 869, 1129), (709, 1178, 740, 1208), (927, 1283, 957, 1313), (612, 1065, 642, 1095), (667, 1582, 697, 1612), (778, 1453, 809, 1483), (773, 1537, 803, 1568), (892, 1727, 922, 1757), (495, 1550, 525, 1580), (927, 1872, 957, 1902), (571, 1573, 602, 1603), (897, 1741, 927, 1771), (801, 1748, 832, 1778), (932, 1495, 962, 1525), (844, 1902, 874, 1932), (941, 1822, 971, 1852), (893, 1845, 924, 1875), (906, 1695, 936, 1725), (865, 1851, 895, 1881), (492, 1530, 522, 1560), (1028, 239, 1058, 269), (1024, 1385, 1054, 1415), (1132, 1145, 1162, 1175), (1256, 1196, 1286, 1226), (1062, 1339, 1092, 1369), (1090, 1060, 1120, 1090), (1143, 1339, 1173, 1369), (1200, 1155, 1230, 1185), (1123, 1148, 1154, 1178), (1123, 1260, 1154, 1290), (1003, 1085, 1033, 1115), (1000, 1369, 1030, 1399), (1008, 1233, 1039, 1263), (1120, 1134, 1150, 1164), (1161, 1316, 1191, 1346), (1162, 1157, 1192, 1187), (1180, 1085, 1210, 1115), (1109, 1242, 1139, 1272), (1019, 1350, 1049, 1380), (1412, 1281, 1442, 1311), (1085, 1276, 1115, 1306), (1051, 1247, 1081, 1277), (1017, 1076, 1047, 1106), (1007, 1346, 1037, 1376), (1299, 1001, 1329, 1031), (959, 1072, 989, 1102), (1180, 1265, 1210, 1295), (1014, 1210, 1044, 1240), (1108, 1389, 1138, 1419), (1085, 1265, 1115, 1295), (1008, 1283, 1039, 1313), (1008, 1249, 1039, 1279), (1155, 1389, 1185, 1419), (977, 1108, 1007, 1138), (1031, 1238, 1062, 1269), (1063, 1329, 1093, 1359), (1200, 1166, 1230, 1196), (1129, 1306, 1159, 1336), (1085, 1054, 1115, 1085), (975, 1217, 1005, 1247), (994, 1261, 1024, 1292), (1095, 1100, 1125, 1131), (1012, 1051, 1042, 1081), (1134, 1332, 1164, 1362), (1116, 1313, 1146, 1343), (1058, 1263, 1088, 1293), (1062, 1422, 1092, 1453), (1067, 1307, 1097, 1338), (1361, 1766, 1391, 1796), (1277, 1824, 1307, 1854), (1281, 1698, 1311, 1729), (1162, 1637, 1192, 1667), (1081, 1476, 1111, 1506), (1169, 1458, 1200, 1488), (1306, 1580, 1336, 1610), (1313, 1799, 1343, 1829), (1111, 1821, 1141, 1851), (1300, 1697, 1330, 1727), (1095, 1683, 1125, 1713), (1364, 1716, 1394, 1746), (1177, 1773, 1207, 1803), (1189, 1537, 1219, 1568), (1166, 1525, 1196, 1555), (1256, 1739, 1286, 1769), (1221, 1550, 1251, 1580), (1086, 1550, 1116, 1580), (1154, 1629, 1184, 1660), (1132, 1454, 1162, 1484), (1099, 1608, 1129, 1638), (1269, 1805, 1299, 1835), (1364, 1552, 1394, 1582), (1051, 1458, 1081, 1488), (1088, 1562, 1118, 1592), (1224, 1591, 1254, 1621), (1207, 1617, 1237, 1647), (966, 1491, 996, 1522), (1164, 1605, 1194, 1635), (961, 1667, 991, 1697), (1058, 1497, 1088, 1527), (1238, 1568, 1269, 1598), (1235, 1752, 1265, 1782), (964, 1688, 994, 1718), (987, 1792, 1017, 1822), (1171, 1532, 1201, 1562), (1265, 1798, 1295, 1828), (1380, 1644, 1410, 1674), (1189, 1605, 1219, 1635), (1380, 1778, 1410, 1808), (1353, 1656, 1384, 1686), (1175, 1490, 1205, 1520), (1131, 1787, 1161, 1817), (1357, 1460, 1387, 1490), (1300, 1560, 1330, 1591), (1169, 1642, 1200, 1672), (1238, 1684, 1269, 1714), (1152, 1576, 1182, 1606), (1184, 1778, 1214, 1808), (1024, 1511, 1054, 1541), (1099, 1490, 1129, 1520), (1111, 1642, 1141, 1672), (1228, 1748, 1258, 1778), (1355, 1557, 1385, 1587), (1207, 1566, 1237, 1596), (1246, 1497, 1276, 1527), (1185, 1587, 1215, 1617), (1304, 1824, 1334, 1854), (1131, 1499, 1161, 1529), (1233, 1451, 1263, 1481), (1263, 1661, 1293, 1691), (1076, 1591, 1106, 1621), (1159, 1440, 1189, 1470), (1092, 1483, 1122, 1513), (1196, 1614, 1226, 1644), (1332, 1564, 1362, 1594), (1031, 1585, 1062, 1615), (964, 1764, 994, 1794), (1355, 1714, 1385, 1744), (1571, 1898, 1601, 1928), (1550, 1743, 1580, 1773), (1582, 1780, 1612, 1810), (1553, 1757, 1583, 1787), (1568, 1741, 1598, 1771), (1484, 1775, 1514, 1805), (1456, 1798, 1486, 1828), (1520, 1775, 1550, 1805), (1546, 1874, 1576, 1904), (1617, 1704, 1647, 1734), (1557, 1835, 1587, 1865), (1546, 1764, 1576, 1794), (1451, 1861, 1481, 1891), (1557, 1782, 1587, 1812), (1599, 1688, 1629, 1718), (1560, 1897, 1591, 1927), (1559, 1750, 1589, 1780), (1557, 1806, 1587, 1836), (1615, 1686, 1645, 1716), (196, 1178, 228, 1207), (453, 1279, 481, 1311), (448, 1619, 479, 1647), (888, 842, 920, 870), (600, 748, 628, 780), (775, 757, 807, 786), (895, 925, 927, 954), (678, 568, 709, 596), (717, 747, 748, 775), (893, 932, 922, 964), (941, 1100, 970, 1132), (479, 994, 508, 1026), (1044, 1093, 1076, 1122), (1136, 1162, 1164, 1194), (1293, 1757, 1322, 1789), (1272, 1813, 1300, 1845), (1316, 1640, 1348, 1668), (327, 1336, 357, 1364), (421, 1378, 449, 1408), (338, 1546, 366, 1576), (685, 1240, 713, 1270), (835, 1293, 865, 1322), (943, 1766, 973, 1794), (989, 1283, 1017, 1313), (1051, 1320, 1079, 1350), (1051, 1115, 1081, 1143), (1000, 1819, 1030, 1847), (1261, 1783, 1290, 1813), (1437, 1748, 1465, 1778), (1483, 1856, 1511, 1886), (1633, 1734, 1663, 1762), (1534, 1904, 1562, 1932)
inflammatory: (1269, 1615, 1299, 1647)
lymphocyte: (234, 1185, 265, 1219), (886, 398, 918, 430), (678, 464, 709, 495), (524, 890, 556, 922), (676, 1012, 708, 1044), (906, 959, 938, 991), (847, 1019, 879, 1051), (782, 1782, 814, 1813), (1077, 678, 1109, 709), (1058, 554, 1090, 586), (1109, 648, 1141, 679), (1079, 1251, 1111, 1283), (1085, 1224, 1116, 1256), (1131, 1180, 1162, 1212), (1023, 1307, 1054, 1339), (1069, 1233, 1100, 1265), (1016, 1228, 1047, 1260), (1281, 1743, 1313, 1775), (1224, 1530, 1256, 1562), (1330, 1748, 1362, 1780), (1246, 1750, 1277, 1782), (1702, 1829, 1734, 1861), (962, 1095, 993, 1129), (1380, 1766, 1410, 1799), (251, 1185, 281, 1217), (791, 294, 823, 324), (732, 414, 764, 444), (708, 442, 738, 474), (840, 416, 870, 448), (832, 347, 863, 377), (596, 464, 626, 495), (789, 587, 819, 619), (706, 683, 736, 715), (812, 754, 842, 786), (938, 1046, 968, 1077), (483, 1221, 513, 1253), (886, 1831, 916, 1863), (902, 1803, 934, 1833), (1065, 731, 1095, 763), (1267, 886, 1299, 916), (1046, 635, 1077, 665), (1076, 1221, 1106, 1253), (1001, 1228, 1031, 1260), (1033, 1307, 1065, 1338), (978, 1035, 1008, 1067), (1056, 1378, 1088, 1408), (1380, 1224, 1410, 1256), (1376, 1419, 1407, 1451), (1366, 1154, 1398, 1184), (1405, 1131, 1437, 1161), (1129, 970, 1161, 1000), (1353, 1212, 1385, 1242), (1037, 1299, 1069, 1329), (1403, 1355, 1433, 1387), (1394, 1274, 1426, 1304), (1307, 1748, 1339, 1778), (1189, 1576, 1219, 1608), (1315, 1766, 1345, 1798), (1300, 1679, 1332, 1709), (1357, 1796, 1389, 1826), (1276, 1766, 1307, 1796), (1203, 1576, 1233, 1608), (1355, 1725, 1387, 1755), (1350, 1842, 1382, 1872), (1191, 1527, 1221, 1559), (1099, 1617, 1131, 1647), (1332, 1500, 1362, 1532), (1192, 1598, 1224, 1628), (1247, 1571, 1279, 1601), (1327, 1766, 1357, 1798), (1253, 1757, 1284, 1787), (1371, 1672, 1401, 1704), (1072, 1477, 1102, 1509), (1295, 1741, 1325, 1773), (1125, 1633, 1157, 1663), (1396, 1723, 1426, 1755), (1350, 1767, 1382, 1798), (1520, 1267, 1552, 1297), (1470, 1299, 1500, 1330), (1493, 1764, 1525, 1794), (1468, 1796, 1500, 1826), (341, 1315, 372, 1345), (462, 1277, 492, 1307), (214, 1214, 244, 1244), (485, 665, 515, 695), (890, 1792, 920, 1822), (1054, 644, 1085, 674), (1102, 1235, 1132, 1265), (1065, 1246, 1095, 1276), (1125, 1177, 1155, 1207), (1382, 1113, 1412, 1143), (1235, 1042, 1265, 1072), (1327, 1281, 1357, 1311), (1391, 1322, 1421, 1352), (1014, 1194, 1044, 1224), (1054, 1085, 1085, 1115), (1369, 1792, 1399, 1822), (1297, 1831, 1327, 1861), (1169, 1506, 1200, 1536), (1244, 1794, 1274, 1824), (1368, 1805, 1398, 1835), (1302, 1755, 1332, 1785), (1306, 1629, 1338, 1658), (1325, 1757, 1357, 1785), (991, 1230, 1021, 1258), (1026, 1230, 1056, 1258), (1320, 1819, 1350, 1847)
